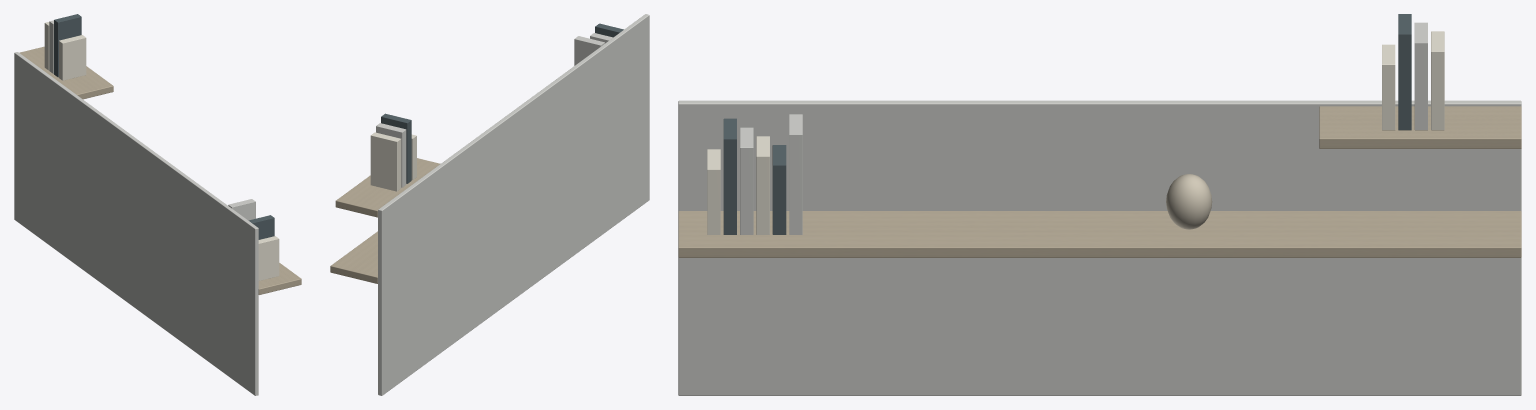
The model's file is head-ledge.glb.
3 renders of one model, left to right at view 1: azimuth 30°, elevation 25°; view 2: azimuth 150°, elevation 25°; view 3: azimuth 270°, elevation 25°, orthographic. The views are drawn at different scales.
Parts seen in each view (by area): view 1: Long headboard wall panel, Raised end display, Display book.006, Display book, Display book.007, Long display ledge, Display book.001, Display book.005, Display book.009, Display book.008; view 2: Long headboard wall panel, Raised end display, Display book.009, Long display ledge, Display book.007, Display book.008, Display book.005; view 3: Long headboard wall panel, Long display ledge, Raised end display, Small ceramic object, Display book.005, Display book.007, Display book.001, Display book.008, Display book.002, Display book.009, Display book.003, Display book.004 (+2 smaller).
Part boxes in pixels (x1=…): Long headboard wall panel: x1=14, y1=52, x2=258, y2=395; Raised end display: x1=19, y1=46, x2=113, y2=99; Display book.006: x1=59, y1=35, x2=86, y2=80; Display book: x1=258, y1=236, x2=279, y2=280; Display book.007: x1=54, y1=14, x2=81, y2=77; Long display ledge: x1=258, y1=263, x2=301, y2=294; Display book.001: x1=248, y1=215, x2=274, y2=239; Display book.005: x1=228, y1=199, x2=255, y2=220; Display book.009: x1=44, y1=22, x2=49, y2=70; Display book.008: x1=49, y1=20, x2=53, y2=73; Long headboard wall panel: x1=378, y1=14, x2=649, y2=395; Raised end display: x1=335, y1=158, x2=440, y2=217; Display book.009: x1=370, y1=132, x2=401, y2=191; Long display ledge: x1=330, y1=231, x2=377, y2=283; Display book.007: x1=381, y1=113, x2=411, y2=183; Display book.008: x1=376, y1=123, x2=406, y2=187; Display book.005: x1=574, y1=36, x2=604, y2=65; Long headboard wall panel: x1=678, y1=100, x2=1521, y2=395; Long display ledge: x1=678, y1=211, x2=1521, y2=257; Raised end display: x1=1319, y1=106, x2=1521, y2=148; Small ceramic object: x1=1166, y1=174, x2=1212, y2=229; Display book.005: x1=789, y1=114, x2=802, y2=234; Display book.007: x1=1398, y1=14, x2=1411, y2=130; Display book.001: x1=723, y1=118, x2=736, y2=234; Display book.008: x1=1414, y1=22, x2=1427, y2=130; Display book.002: x1=740, y1=127, x2=753, y2=234; Display book.009: x1=1431, y1=31, x2=1444, y2=130; Display book.003: x1=756, y1=136, x2=769, y2=234; Display book.004: x1=772, y1=145, x2=786, y2=234.
Size of the model in its own units: 0.196 by 0.885 by 1.75.
Materials: 6 (1 with a texture image).
